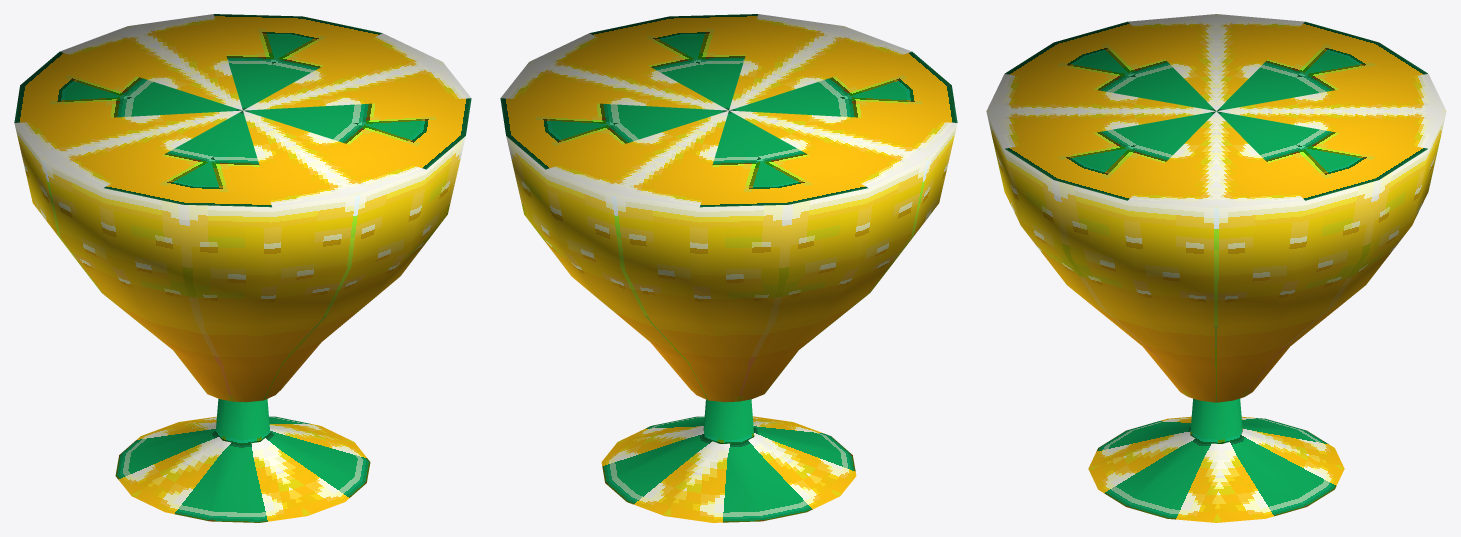
Rendered from int_ctr_r_tableS.dae.
3 views of the same model, side by side, from view 1: azimuth 30°, elevation 25°; view 2: azimuth 150°, elevation 25°; view 3: azimuth 270°, elevation 25° (orthographic).
Parts seen in each view (by area): view 1: int_ctr_r_tableS; view 2: int_ctr_r_tableS; view 3: int_ctr_r_tableS.
Boxes of the visible parts, x1,y1,x2,y2 form: int_ctr_r_tableS: (14, 14, 471, 522); int_ctr_r_tableS: (500, 14, 957, 522); int_ctr_r_tableS: (986, 14, 1446, 522).
Size of the model in its own units: 28 by 24 by 28.
Materials: 1 (1 with a texture image).
